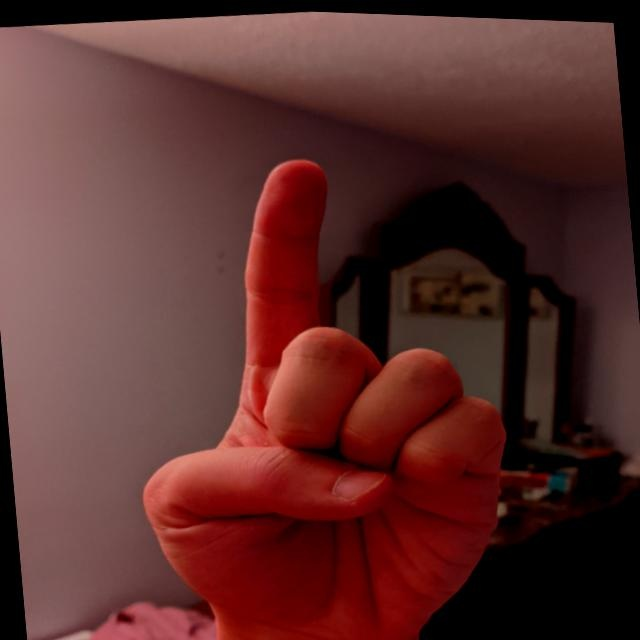D: (106, 129, 534, 639)
